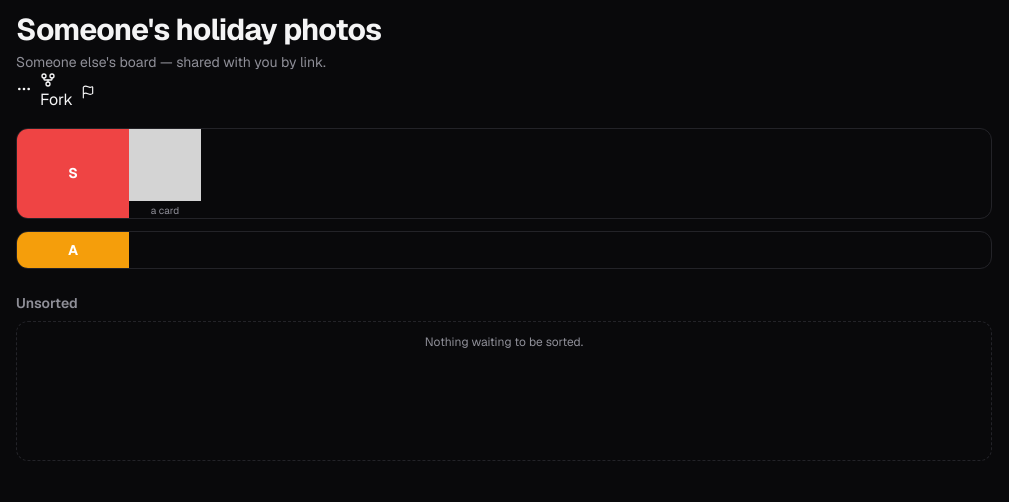
Test: the fork button on someone else's board › shows the reason when the write is refused, and does not navigate away
The image size is (1009, 502).
Click the button "Fork".
click(56, 92)  # box [40,72,73,112]
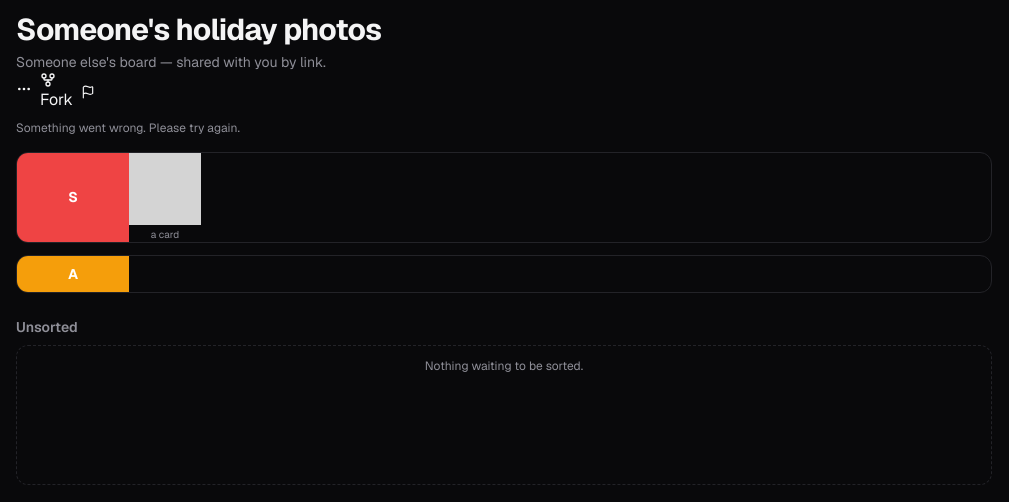
Expected: the text "Something went wrong. Please try again." is shown, [16,120,240,136]
